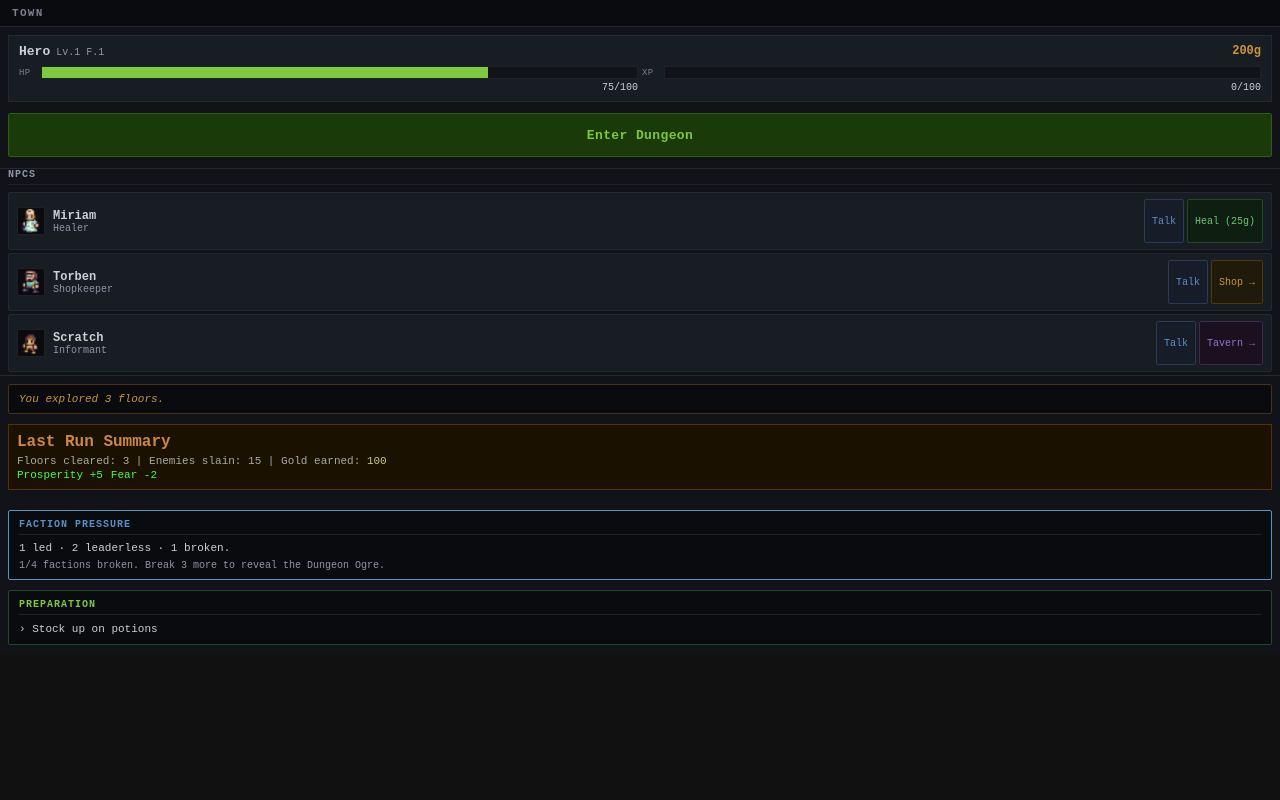
Test: TownPhase Component › Factions Rendering › displays faction power and ogre progress in the tavern panel
The width and height of the screenshot is (1280, 800).
Click the button "Tavern →". click: {"x": 1231, "y": 343}
box: [1199,321,1263,365]
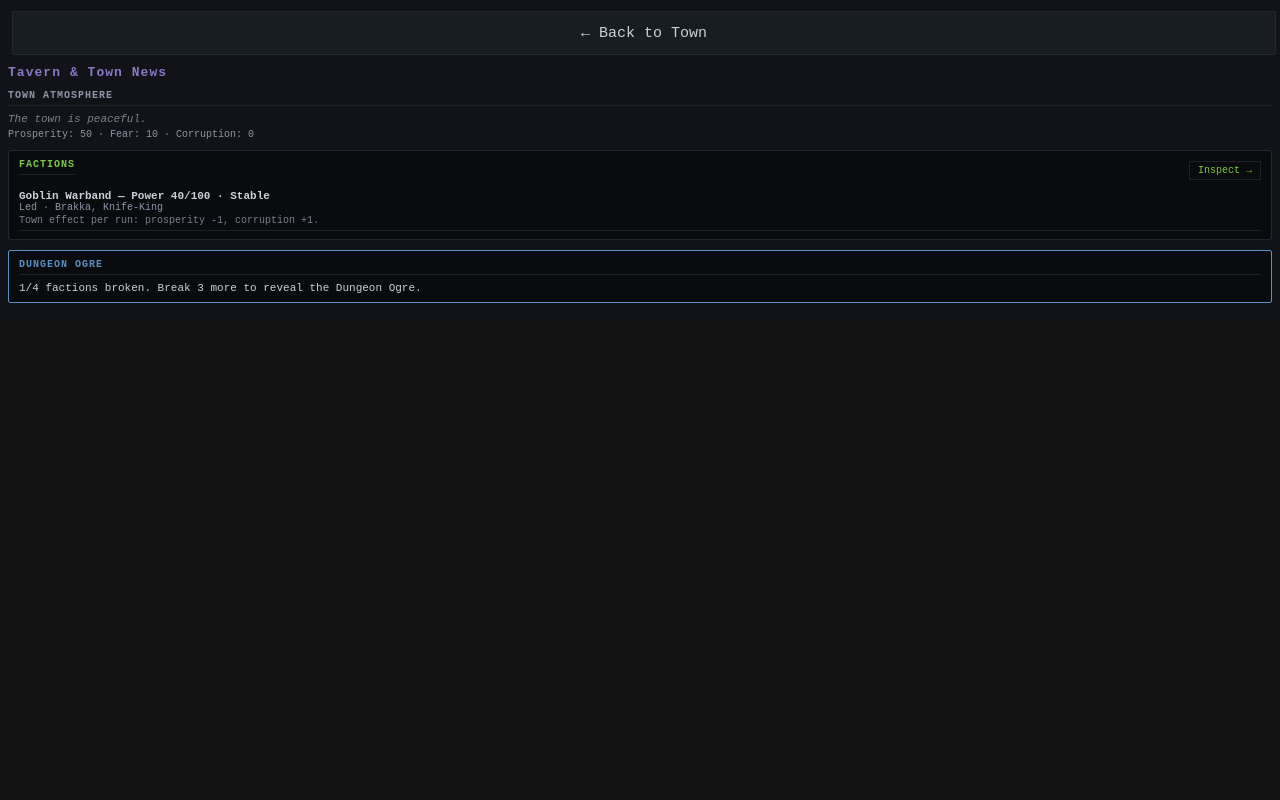
Expected: the text "Break 3 more to reveal the Dungeon Ogre" is shown, [19,282,422,294]
Expected: the text "Goblin Warband — Power 40/100 · Stable" is shown, [19,190,270,202]
